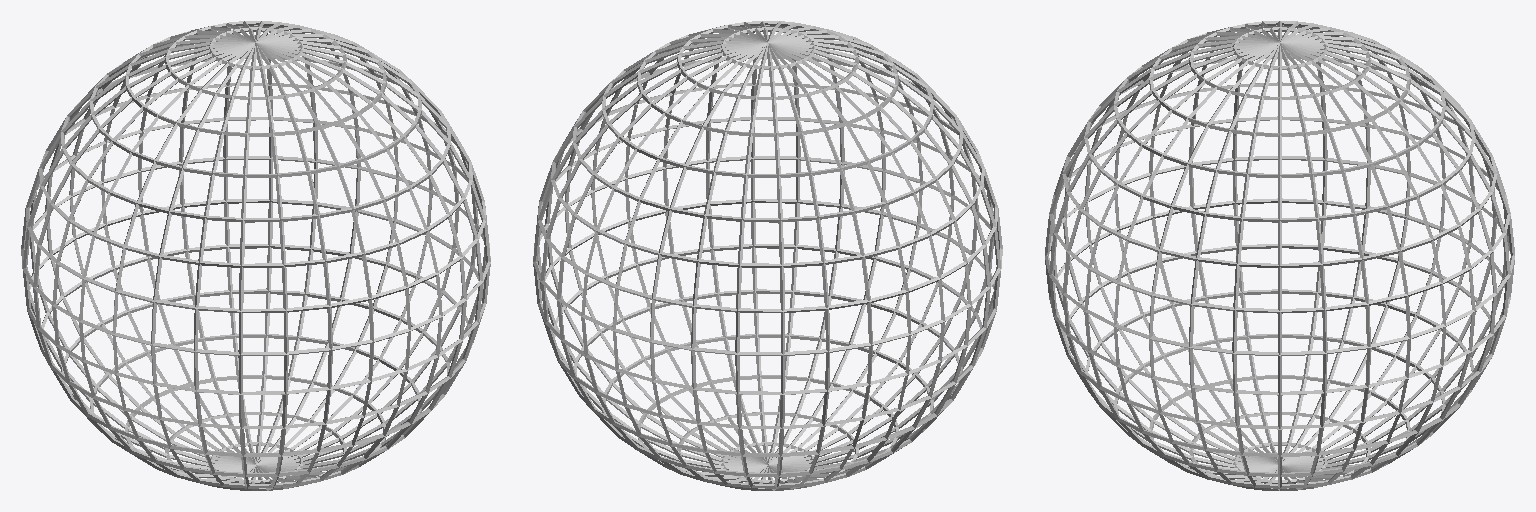
The model's file is cockpitb.obj.
3 renders of one model, left to right at view 1: azimuth 30°, elevation 25°; view 2: azimuth 150°, elevation 25°; view 3: azimuth 270°, elevation 25°, orthographic.
Parts seen in each view (by area): view 1: Sphere_Sphere.001; view 2: Sphere_Sphere.001; view 3: Sphere_Sphere.001.
Boxes of the visible parts, x1,y1,x2,y2 form: Sphere_Sphere.001: [21, 21, 490, 490]; Sphere_Sphere.001: [533, 21, 1002, 490]; Sphere_Sphere.001: [1045, 21, 1514, 490].
Bounding box in the file's own units: 1.35 × 1.35 × 1.35.